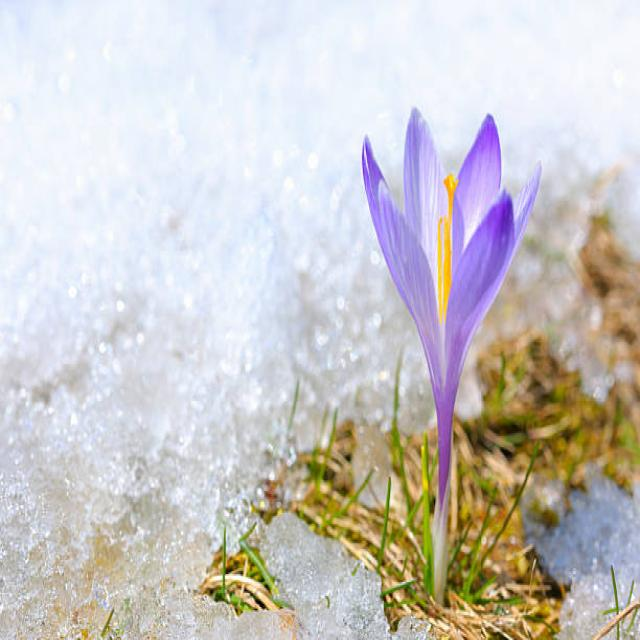saffron open: (362, 109, 540, 602)
